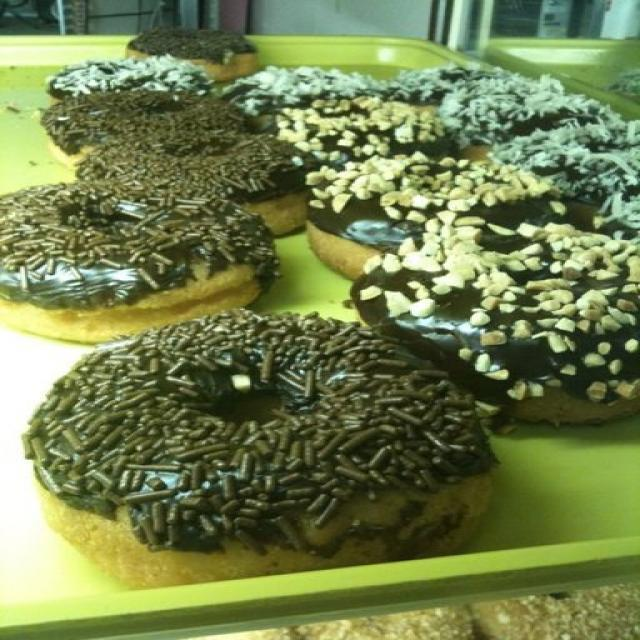Donuts: (3, 23, 639, 575)
